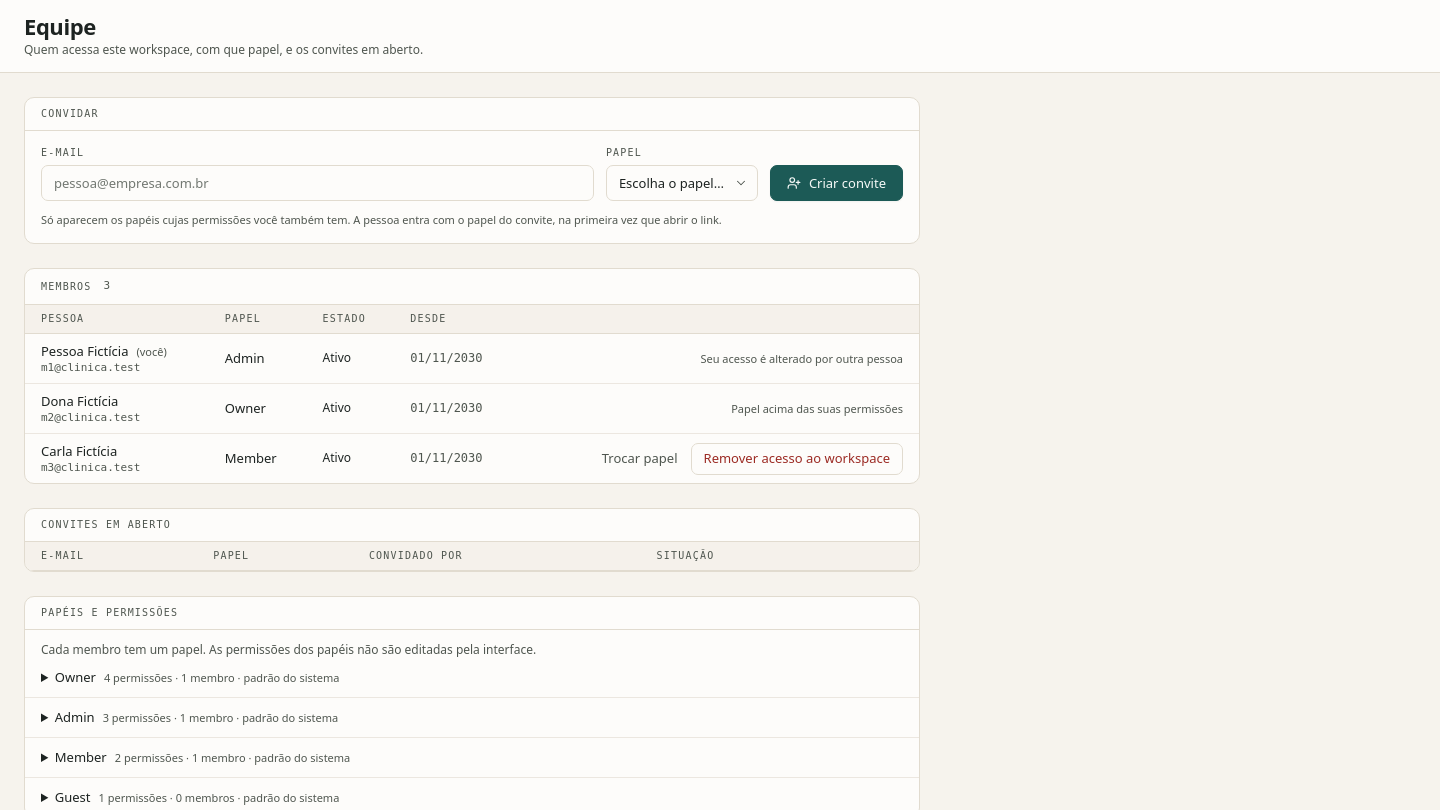
it: quem administra a equipe › a recusa do servidor aparece como veio, e nada é dado como feito
Click the button with aria-label "Remover o acesso de Carla Fictícia ao workspace" at [797, 459], box [690,443,903,475]
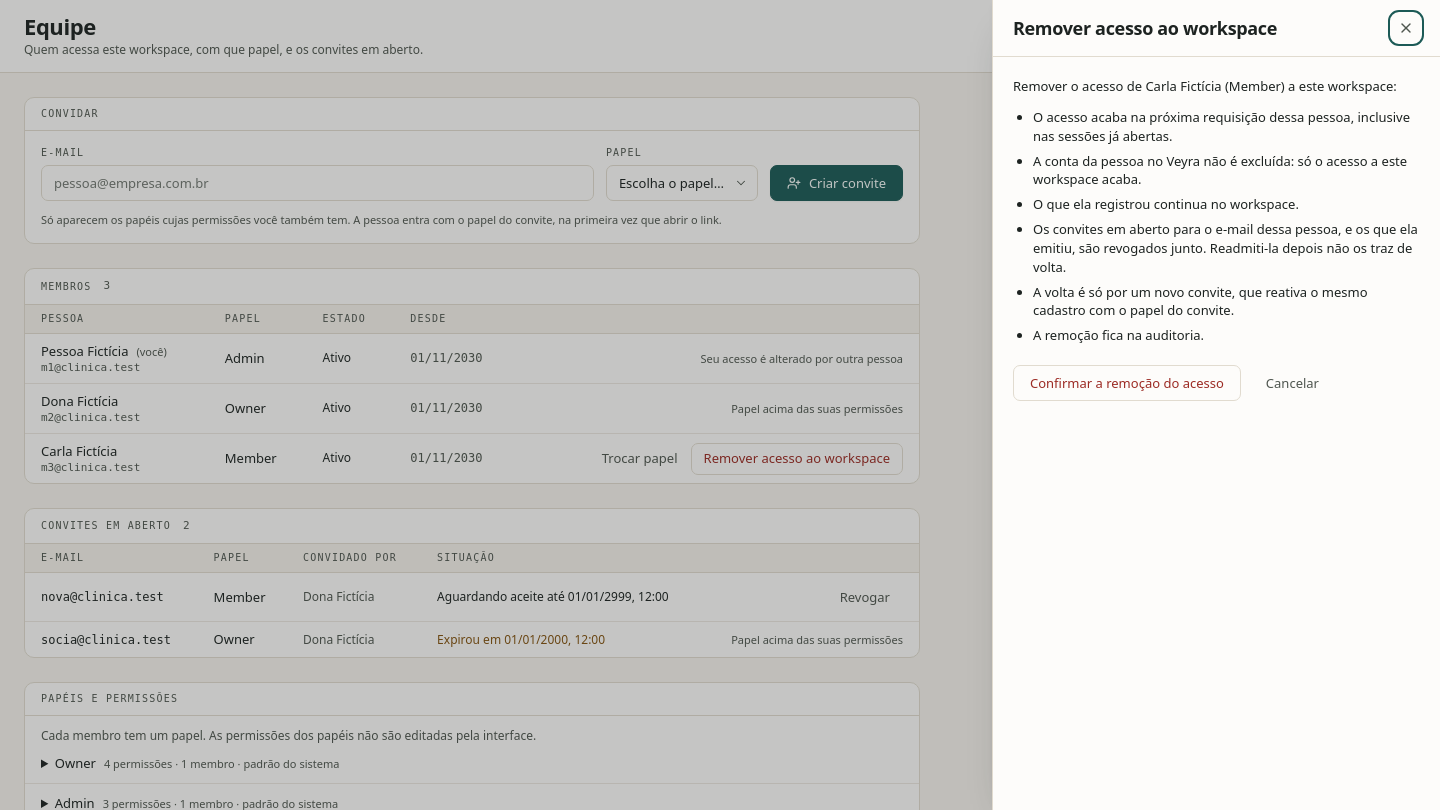
Check: the element with test id "efeito-da-remocao" shows "O acesso acaba na próxima requisição dessa pessoa, inclusive nas sessões já abertas.", box [1033,108,1410,145]
Check: the element with test id "efeito-da-remocao" shows "A conta da pessoa no Veyra não é excluída", box [1033,152,1407,188]
Check: the element with test id "efeito-da-remocao" shows "e os que ela emitiu, são revogados junto", box [1033,220,1418,276]
Click the button "Confirmar a remoção do acesso" at [1127, 383], box [1013,365,1241,401]
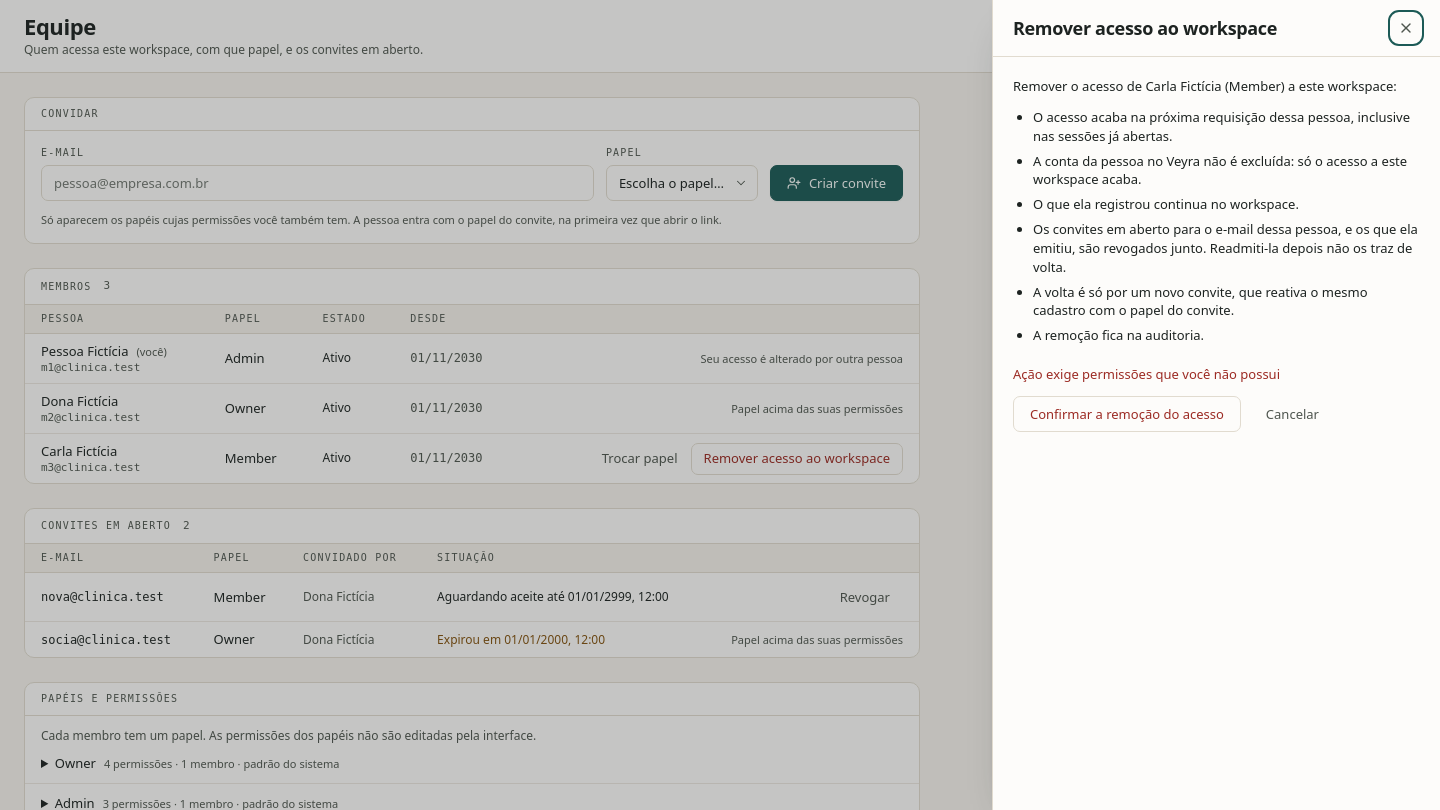
Check: the message reads "Ação exige permissões que você não possui", box [1013,365,1280,383]
